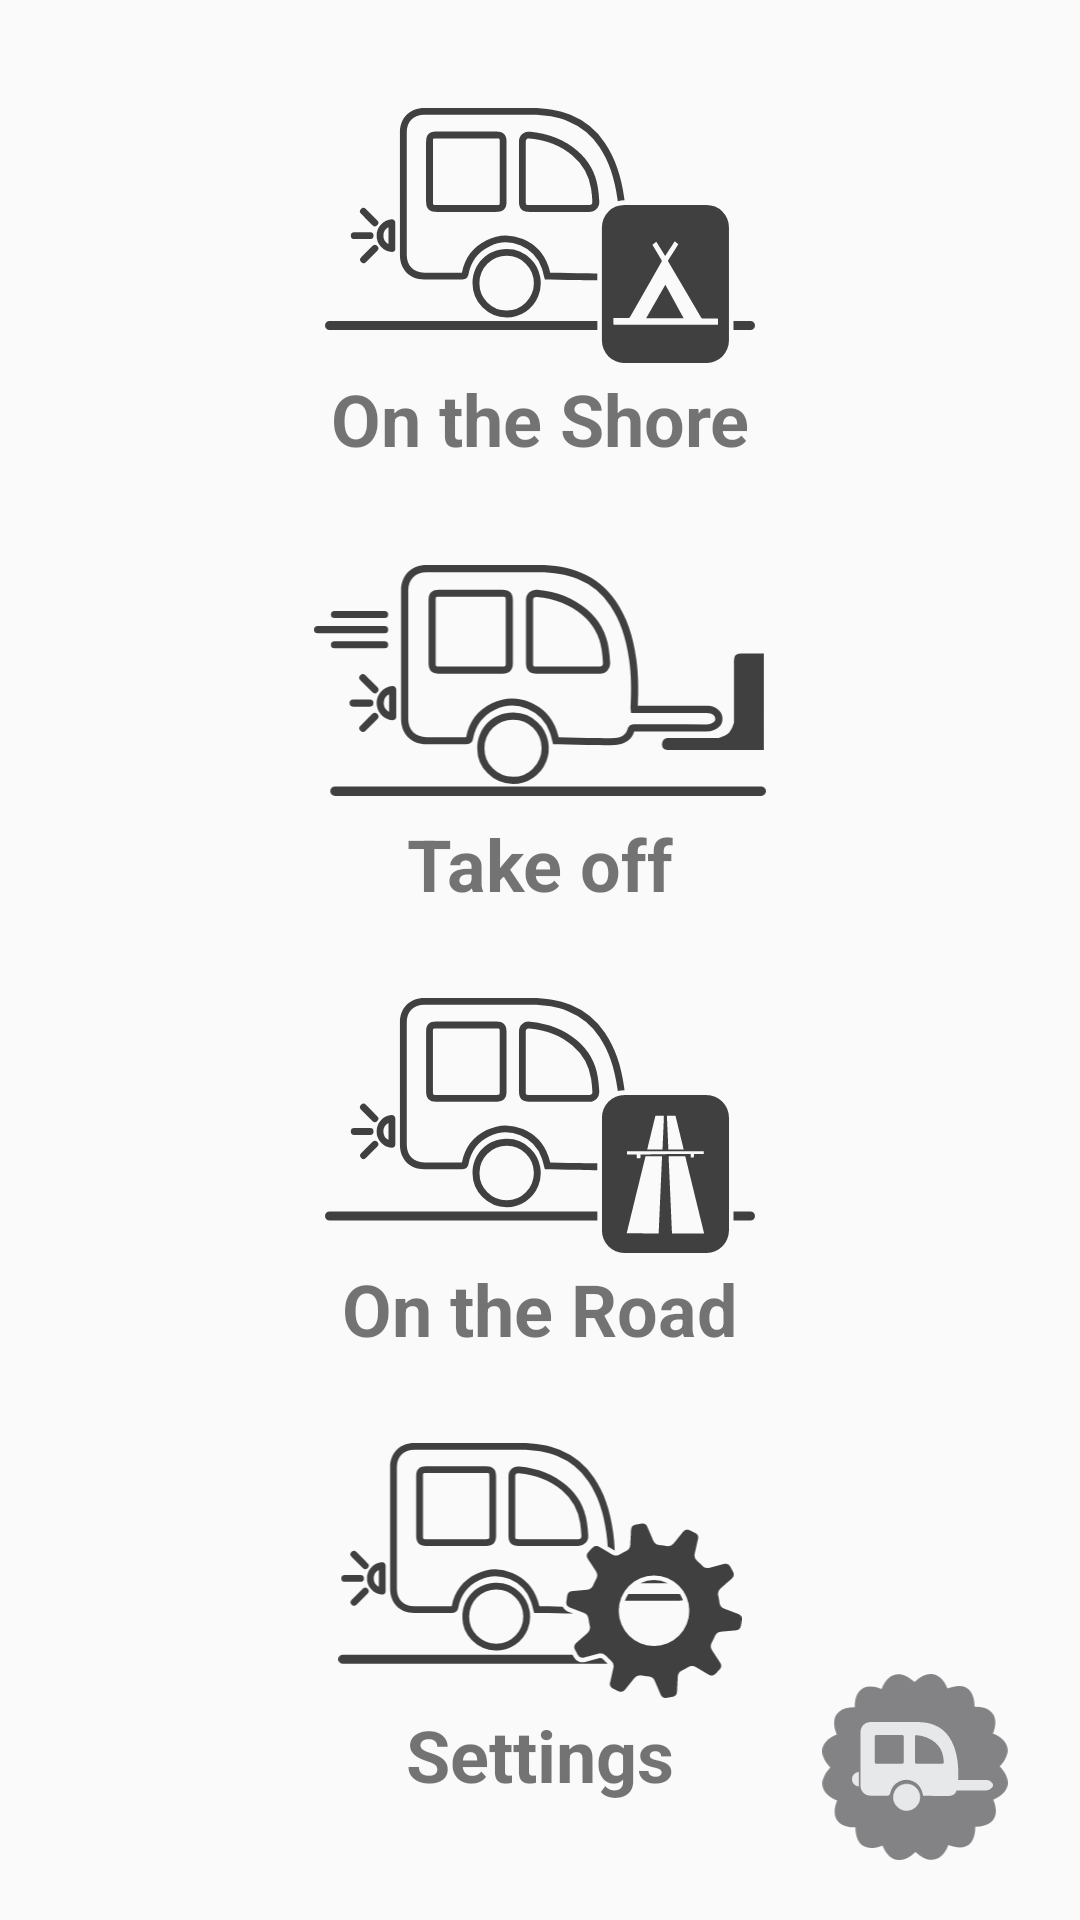

Screen size 1080 x 1920. Icon name, then its box in pixels as region(x1, y1, x2, y2):
treler: region(852, 1722, 993, 1811)
